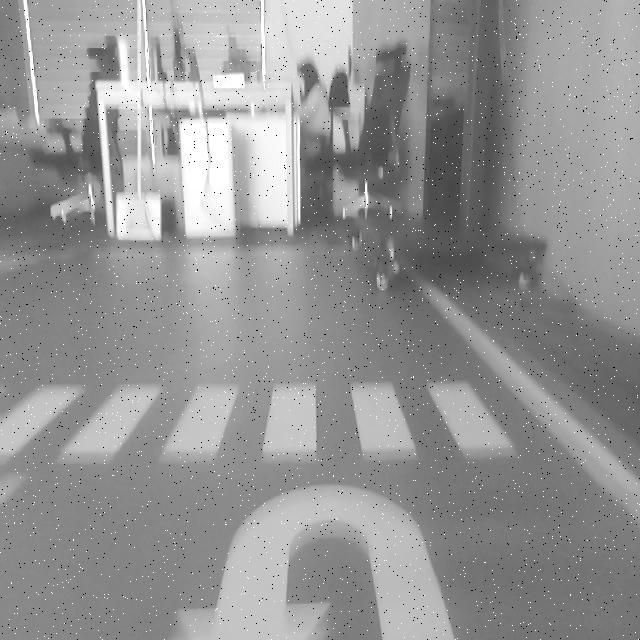left_lane: (0, 475, 24, 504)
right_lane: (411, 276, 639, 521)
